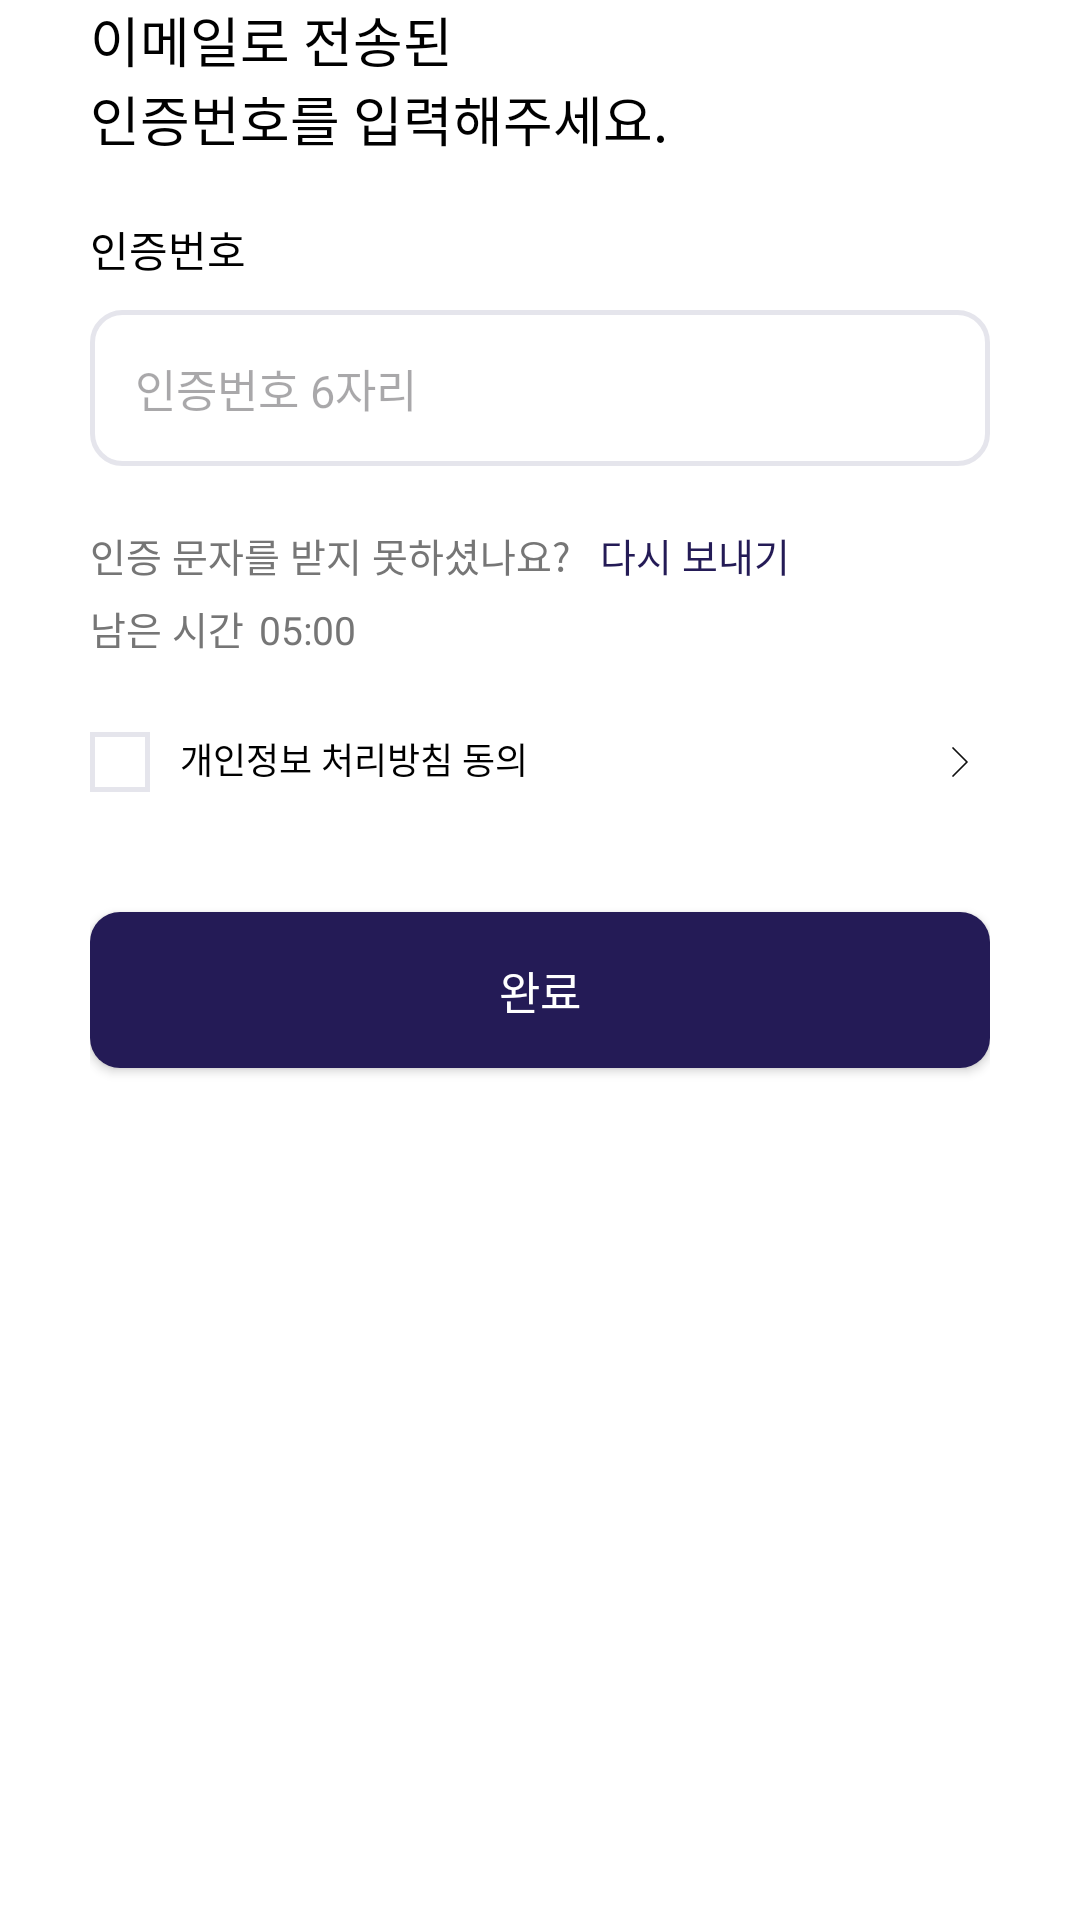

Icons on this 1080px×1920px Android screen, each with the point to tap as (x,y):
arrow right: (960,762)
